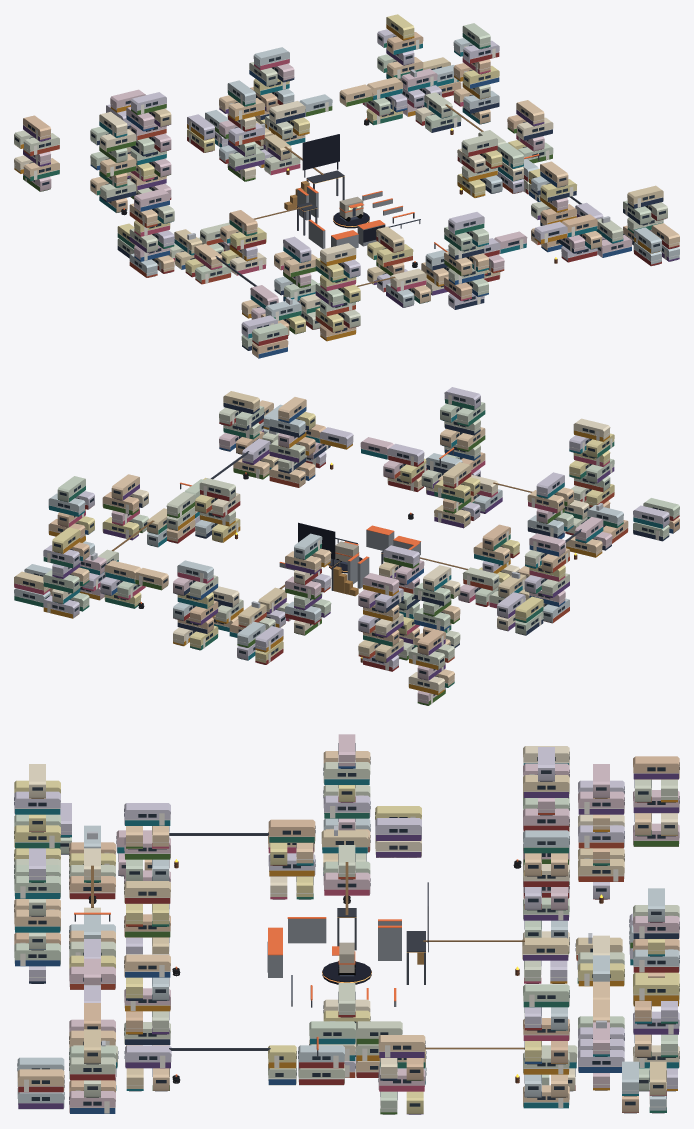
3 views of the same model, one above another, from view 1: azimuth 30°, elevation 25°; view 2: azimuth 150°, elevation 25°; view 3: azimuth 270°, elevation 25° (orthographic). The views are drawn at different scales.
Parts seen in each view (by area): view 1: district_city_vertical.lod1; view 2: district_city_vertical.lod1; view 3: district_city_vertical.lod1.
Part boxes in pixels (x1,y1,x2,y2): district_city_vertical.lod1: (14, 14, 679, 358); district_city_vertical.lod1: (14, 387, 679, 705); district_city_vertical.lod1: (14, 734, 679, 1114).
Size of the model in its own units: 96.85 by 21.6 by 96.85.
